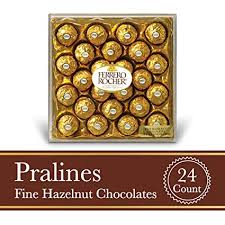Chocolate: (42, 4, 184, 149)
